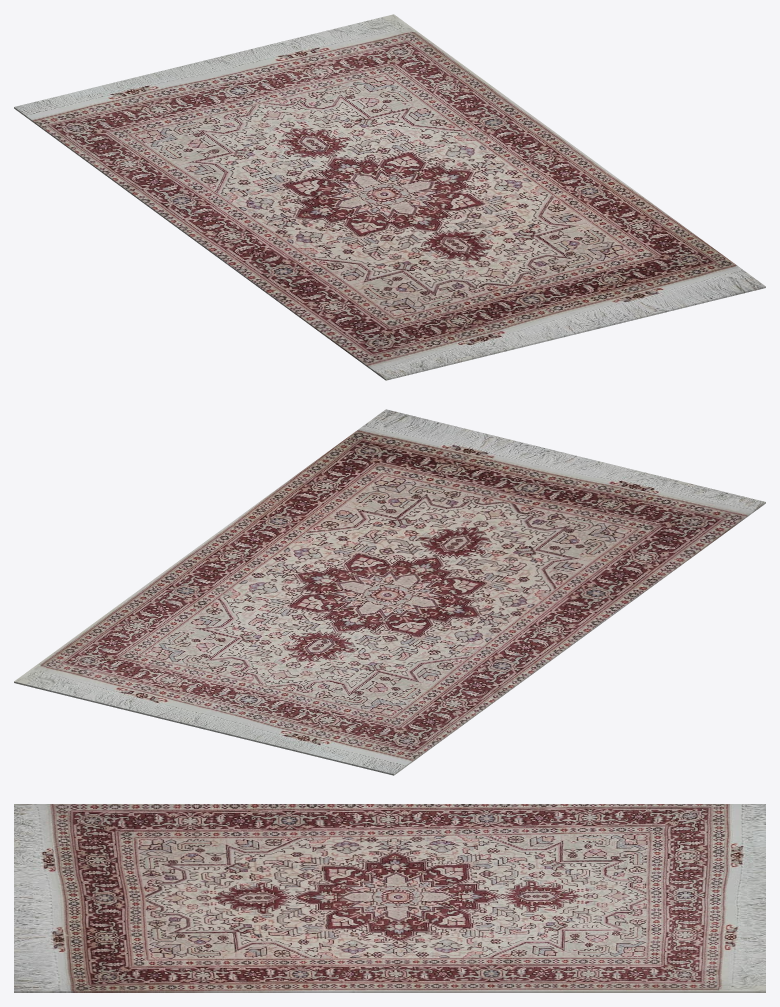
Rendered from carpetglb.glb.
3 views of the same model, one above another, from view 1: azimuth 30°, elevation 25°; view 2: azimuth 150°, elevation 25°; view 3: azimuth 270°, elevation 25° (orthographic).
Size of the model in its own units: 0.141 by 0.000521 by 0.239.
1 material, 1 textured.
